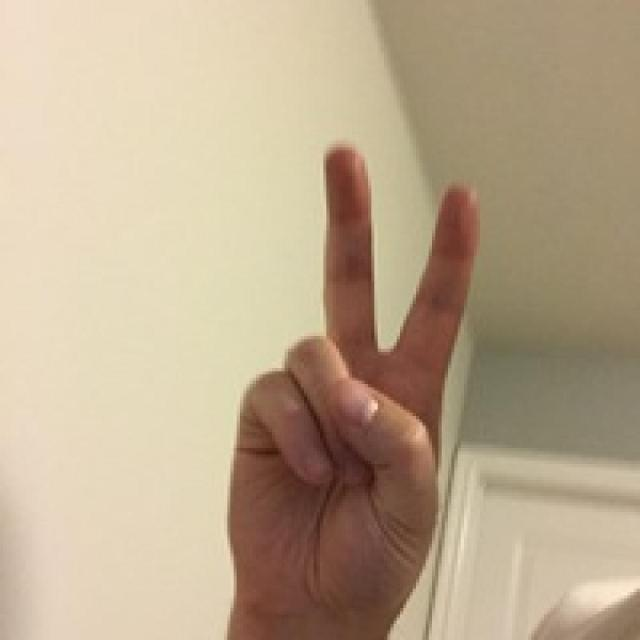V: (209, 135, 506, 640)
